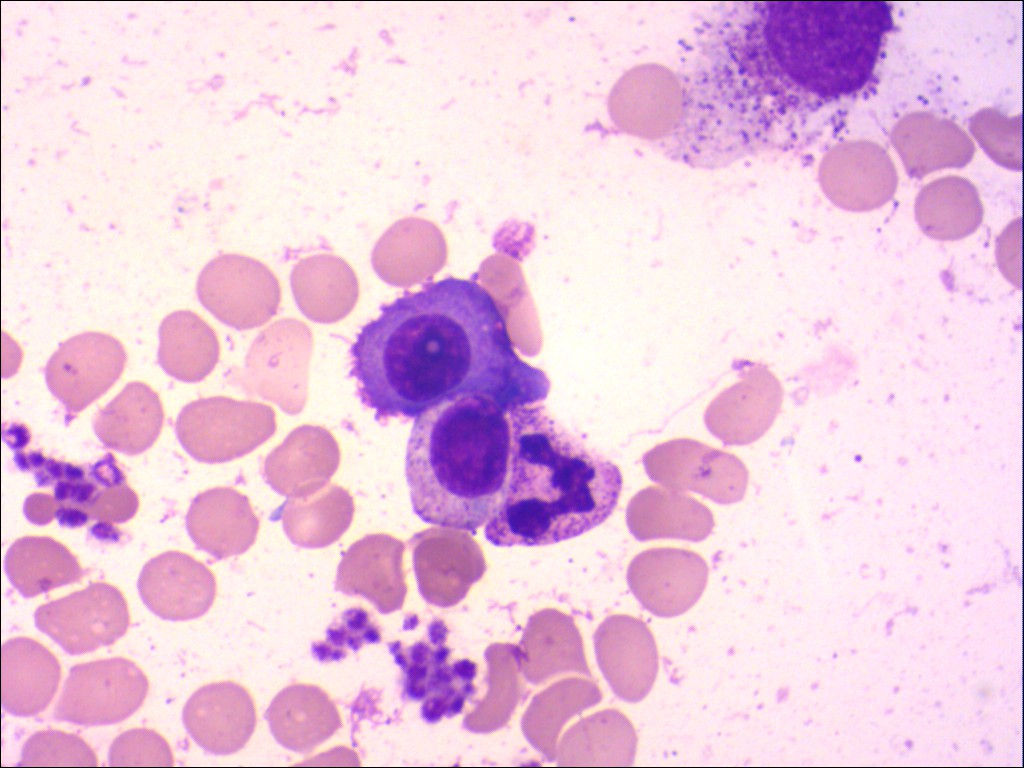3: (402, 389, 515, 537)
5: (482, 405, 624, 553)
51: (347, 273, 556, 425)
x: (749, 1, 904, 108)
